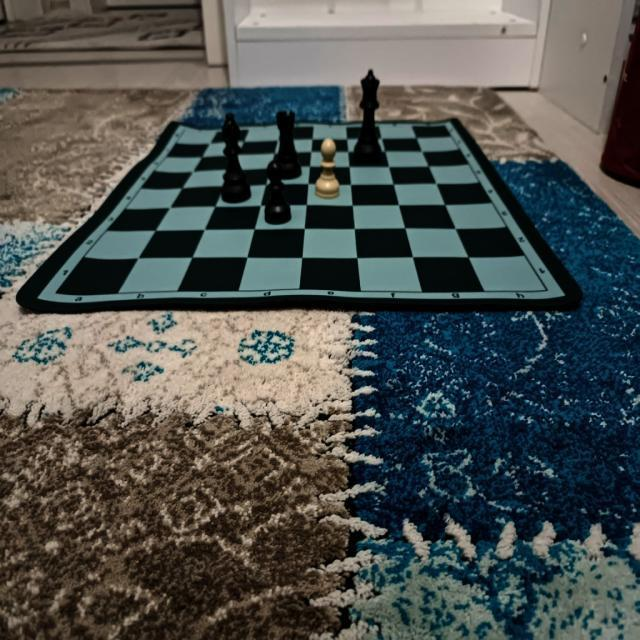chess-table-corners: (46, 281, 68, 304), (537, 278, 556, 301), (176, 120, 193, 142), (436, 118, 454, 136)
